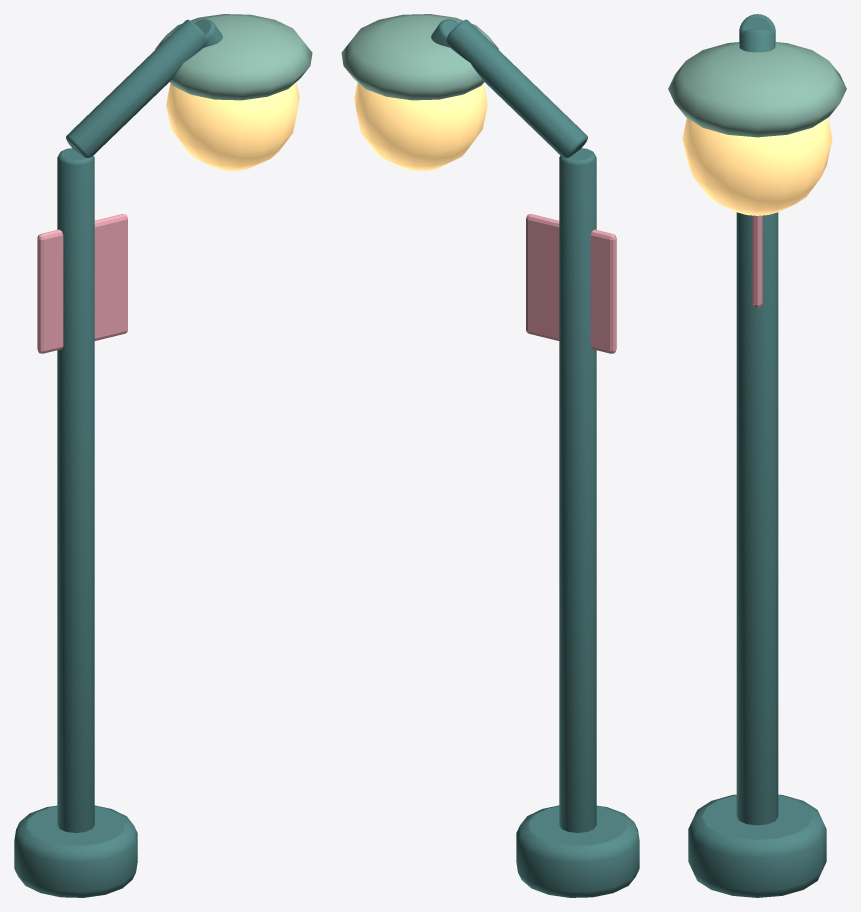
The model's file is street-lamp.glb.
3 renders of one model, left to right at view 1: azimuth 30°, elevation 25°; view 2: azimuth 150°, elevation 25°; view 3: azimuth 270°, elevation 25°, orthographic. The views are drawn at different scales.
Visible parts, largest first — view 1: street-lamp; view 2: street-lamp; view 3: street-lamp.
Boxes of the visible parts, x1=… form: street-lamp: x1=14, y1=14, x2=312, y2=897; street-lamp: x1=341, y1=14, x2=639, y2=897; street-lamp: x1=668, y1=14, x2=846, y2=897.
Bounding box in the file's own units: 1.25 × 3.53 × 0.62.
